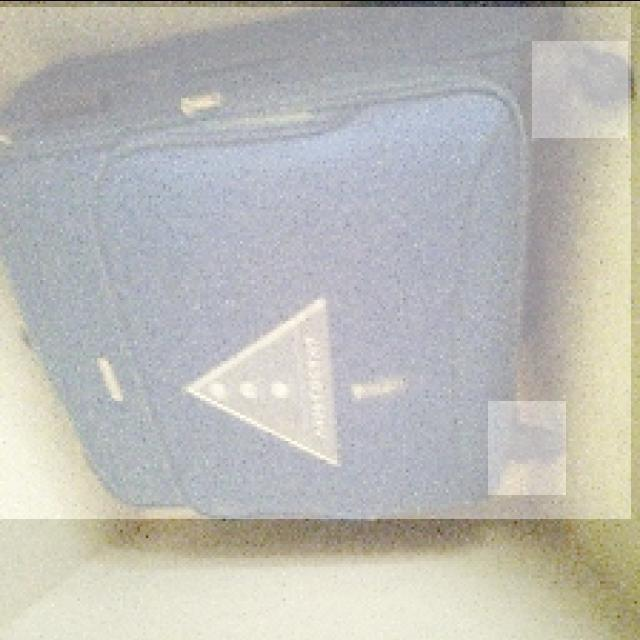Suitcase: (4, 24, 640, 518)
